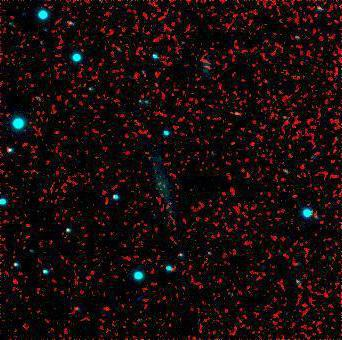star: (92, 295, 122, 325)
